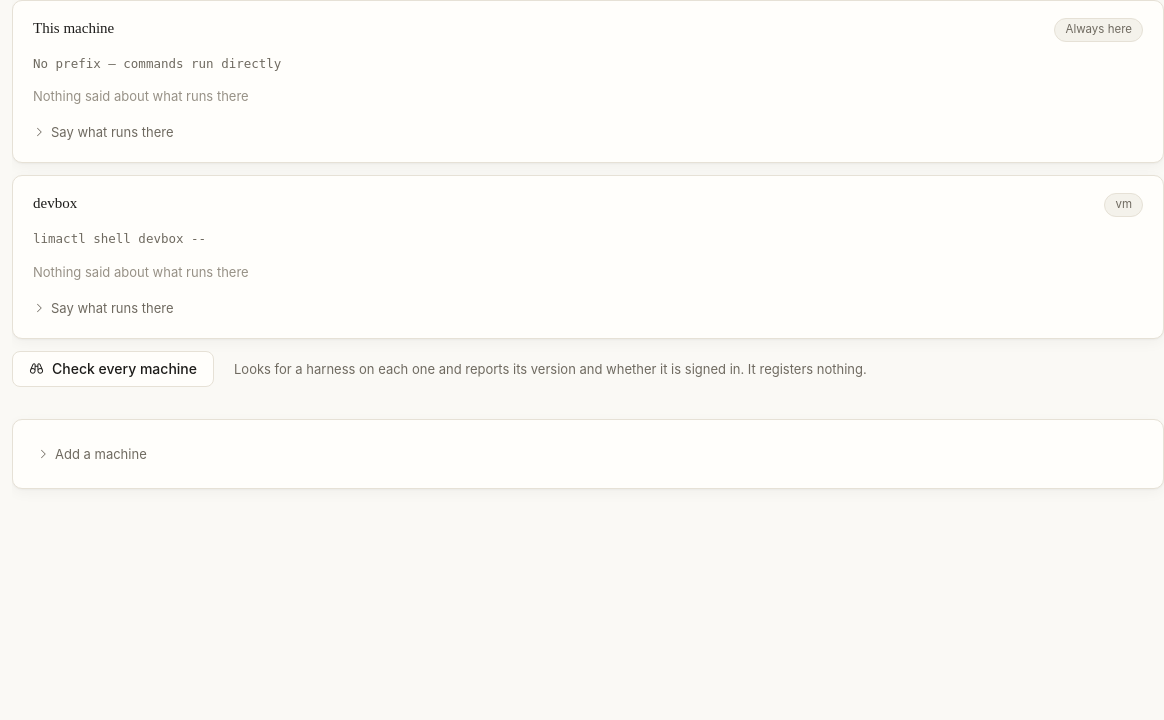
Scenario: MachinesPanel › says when a machine has the harness but nobody is signed in
Click the button "Check every machine" at (113, 369), box [12, 351, 214, 387]
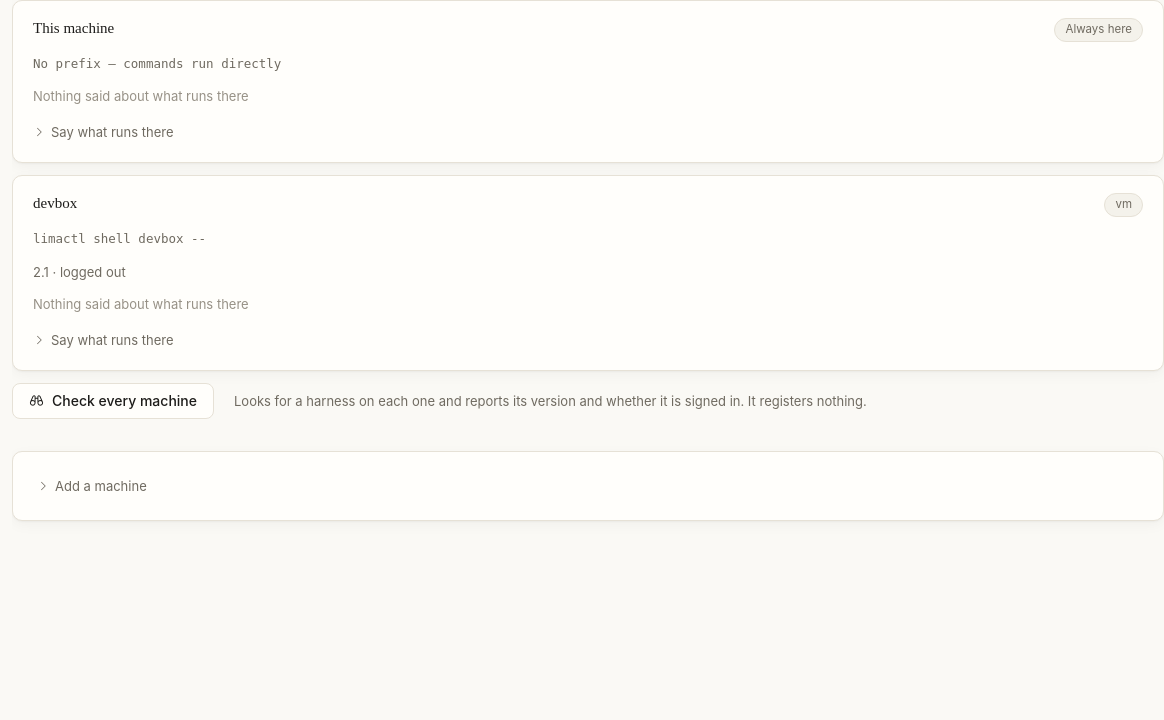
Expected: the text "2.1 · logged out" is shown, [33, 264, 126, 280]
